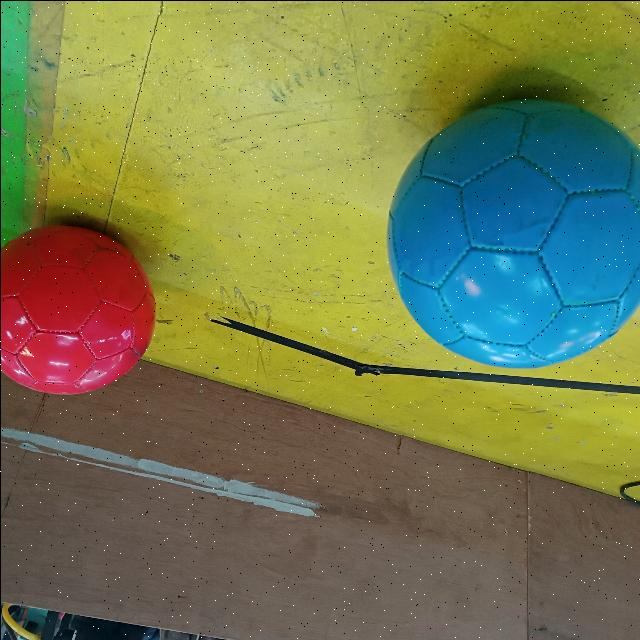B: (380, 94, 640, 370)
R: (0, 218, 158, 398)
